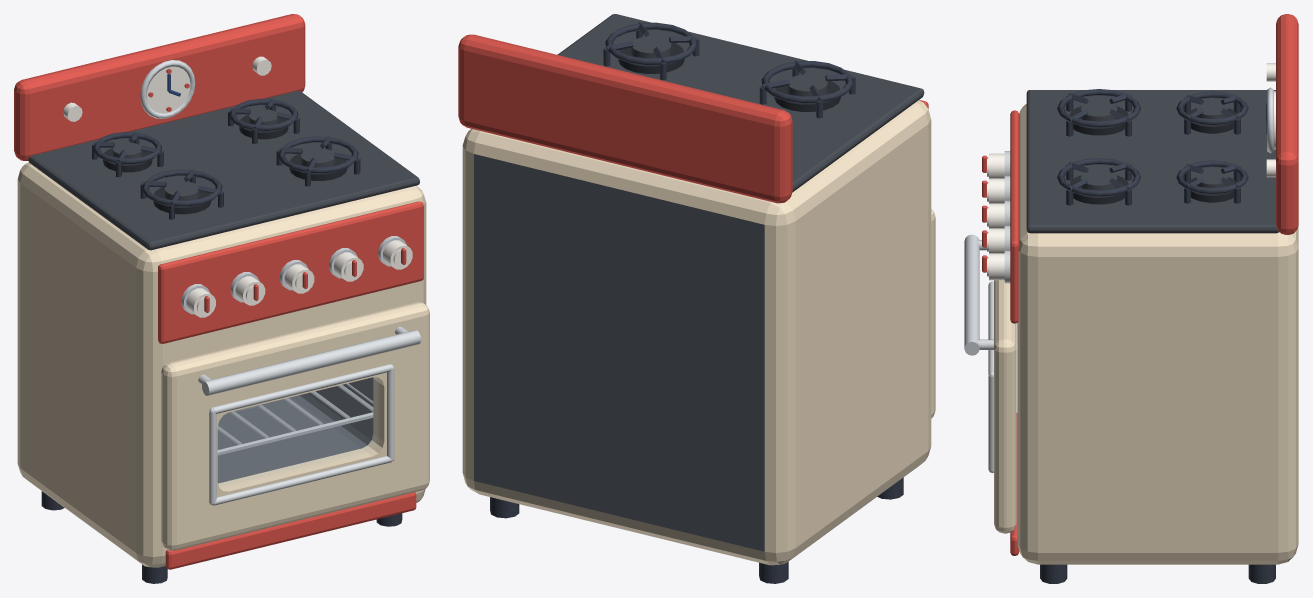
File: forno.glb
3 views of the same model, side by side, from view 1: azimuth 30°, elevation 25°; view 2: azimuth 150°, elevation 25°; view 3: azimuth 270°, elevation 25° (orthographic). The views are drawn at different scales.
Visible parts, largest first — view 1: forno, porta; view 2: forno, porta; view 3: forno, porta.
Part boxes in pixels (<box>): forno: <box>14,14,426,583</box>; porta: <box>161,302,429,550</box>; forno: <box>458,14,931,583</box>; porta: <box>931,209,935,418</box>; forno: <box>982,14,1298,583</box>; porta: <box>964,234,1016,533</box>.
Size of the model in its own units: 0.76 by 1.06 by 0.737.
